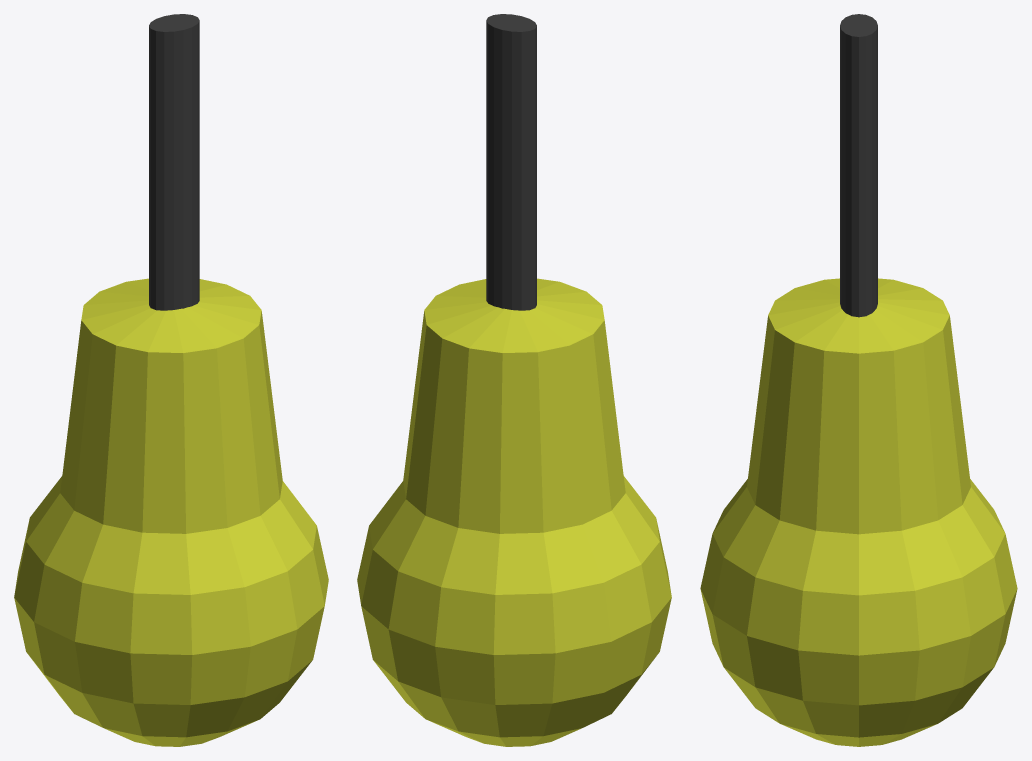
The model's file is lights short cable.fbx.
3 renders of one model, left to right at view 1: azimuth 30°, elevation 25°; view 2: azimuth 150°, elevation 25°; view 3: azimuth 270°, elevation 25°, orthographic.
Visible parts, largest first — view 1: Sphere, Cylinder_5; view 2: Sphere, Cylinder_5; view 3: Sphere, Cylinder_5.
Boxes of the visible parts, <box> form: Sphere: <box>14,278,328,746</box>; Cylinder_5: <box>149,14,199,310</box>; Sphere: <box>357,278,671,746</box>; Cylinder_5: <box>486,14,536,310</box>; Sphere: <box>700,278,1017,746</box>; Cylinder_5: <box>840,14,877,317</box>.
Size of the model in its own units: 31.11 by 76.63 by 31.11.
